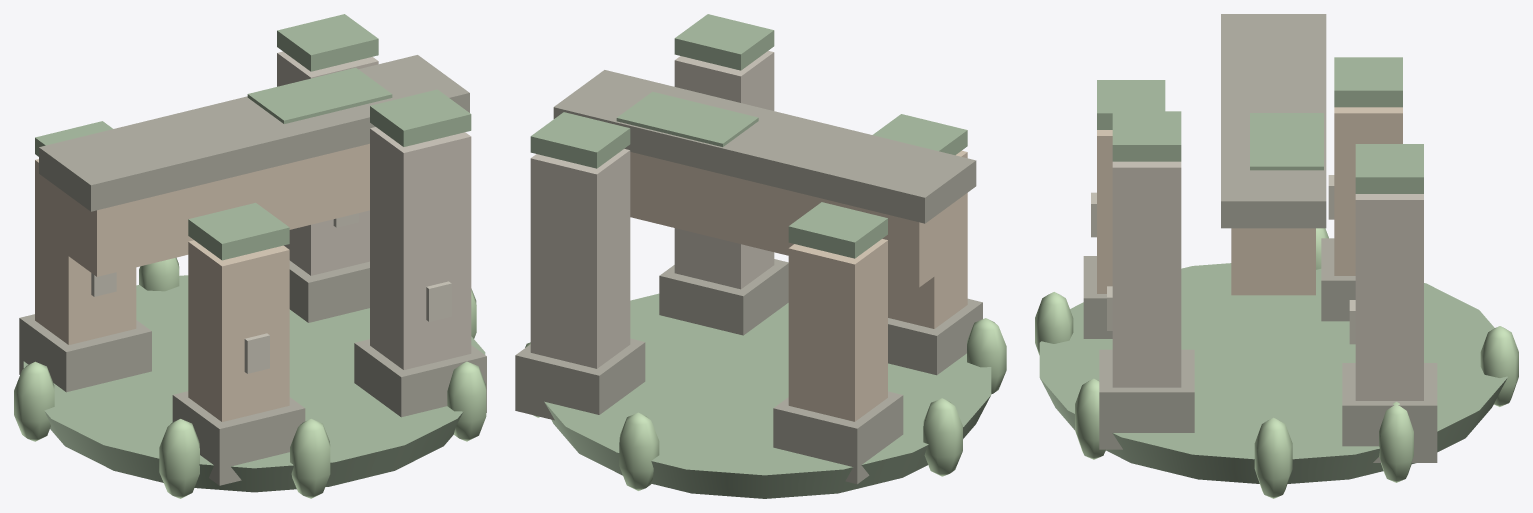
File: stones.glb
3 views of the same model, side by side, from view 1: azimuth 30°, elevation 25°; view 2: azimuth 150°, elevation 25°; view 3: azimuth 270°, elevation 25° (orthographic). The views are drawn at different scales.
Visible parts, largest first — view 1: CloverStandingStones-moss, CloverStandingStones-stoneDark, CloverStandingStones-sandstone, CloverStandingStones-stone, CloverStandingStones-grass, CloverStandingStones-plasterDark; view 2: CloverStandingStones-moss, CloverStandingStones-stoneDark, CloverStandingStones-sandstone, CloverStandingStones-stone, CloverStandingStones-grass; view 3: CloverStandingStones-moss, CloverStandingStones-stoneDark, CloverStandingStones-stone, CloverStandingStones-sandstone, CloverStandingStones-grass, CloverStandingStones-plasterDark.
Part boxes in pixels (<box>): CloverStandingStones-moss: <box>23,14,485,492</box>; CloverStandingStones-stoneDark: <box>19,55,486,485</box>; CloverStandingStones-sandstone: <box>35,143,369,421</box>; CloverStandingStones-stone: <box>277,51,471,369</box>; CloverStandingStones-grass: <box>14,257,486,498</box>; CloverStandingStones-plasterDark: <box>91,213,451,373</box>; CloverStandingStones-moss: <box>530,14,991,498</box>; CloverStandingStones-stoneDark: <box>515,70,982,484</box>; CloverStandingStones-sandstone: <box>630,150,967,421</box>; CloverStandingStones-stone: <box>530,50,774,368</box>; CloverStandingStones-grass: <box>525,318,1006,490</box>; CloverStandingStones-moss: <box>1039,57,1507,483</box>; CloverStandingStones-stoneDark: <box>1083,14,1437,462</box>; CloverStandingStones-stone: <box>1112,161,1423,400</box>; CloverStandingStones-sandstone: <box>1097,107,1402,295</box>; CloverStandingStones-grass: <box>1035,228,1518,498</box>; CloverStandingStones-plasterDark: <box>1091,175,1355,344</box>.
Bounding box in the file's own units: 0.973 × 0.6725 × 0.9166.
